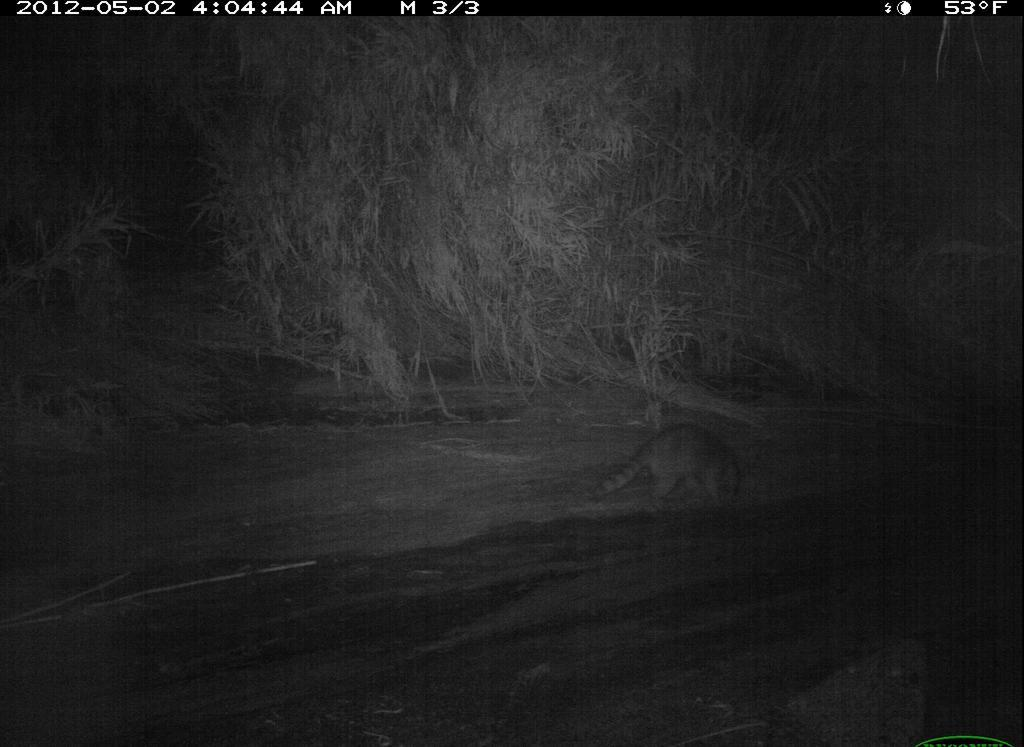raccoon: (579, 420, 757, 529)
